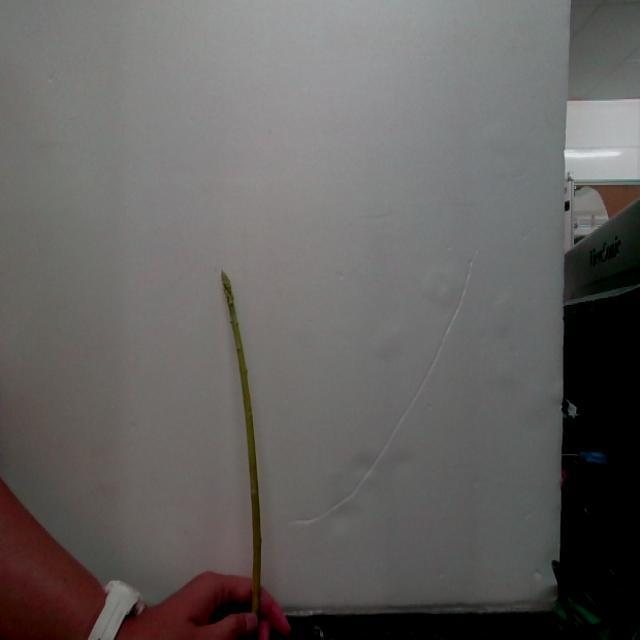aspargus: (222, 274, 264, 620)
